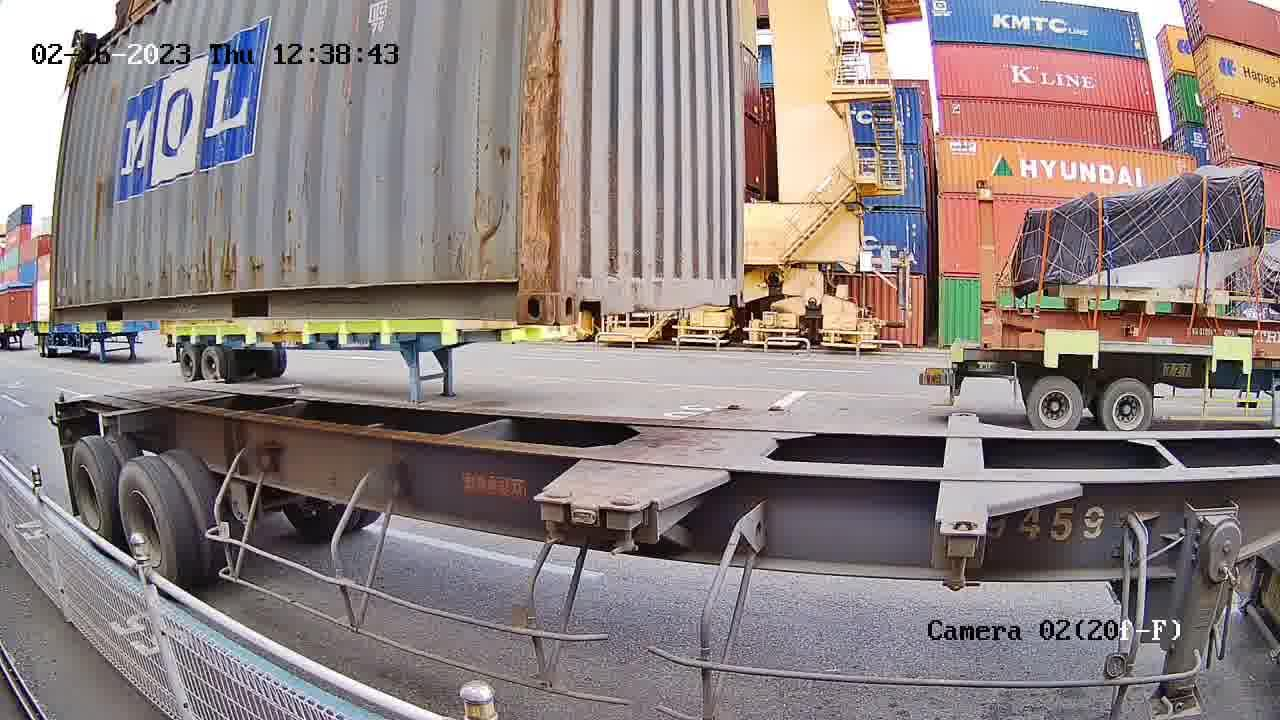Chassis: (543, 408, 749, 504), (610, 406, 803, 508)
Cone: (604, 496, 646, 559), (540, 489, 574, 545), (764, 402, 790, 418), (721, 400, 749, 412)
Hole_L: (553, 247, 621, 326)
Hole_R: (477, 247, 555, 325), (727, 277, 745, 307)
Tire: (122, 459, 182, 594), (71, 443, 120, 550)
